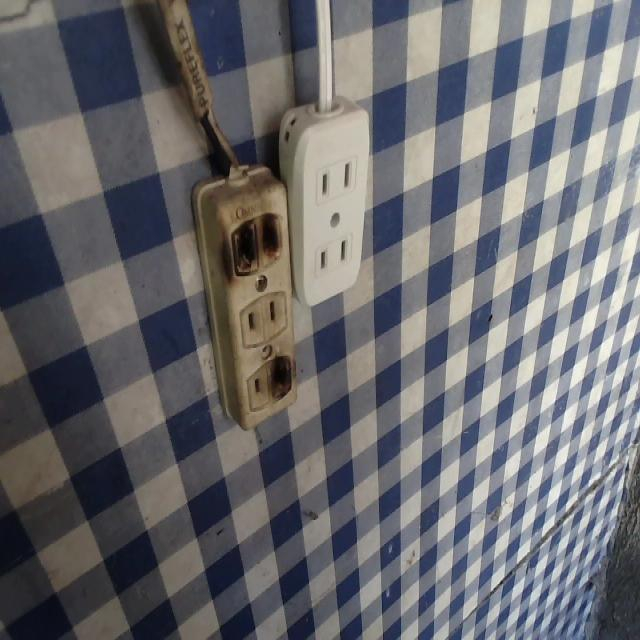-: (226, 214, 292, 274), (266, 350, 296, 406)
